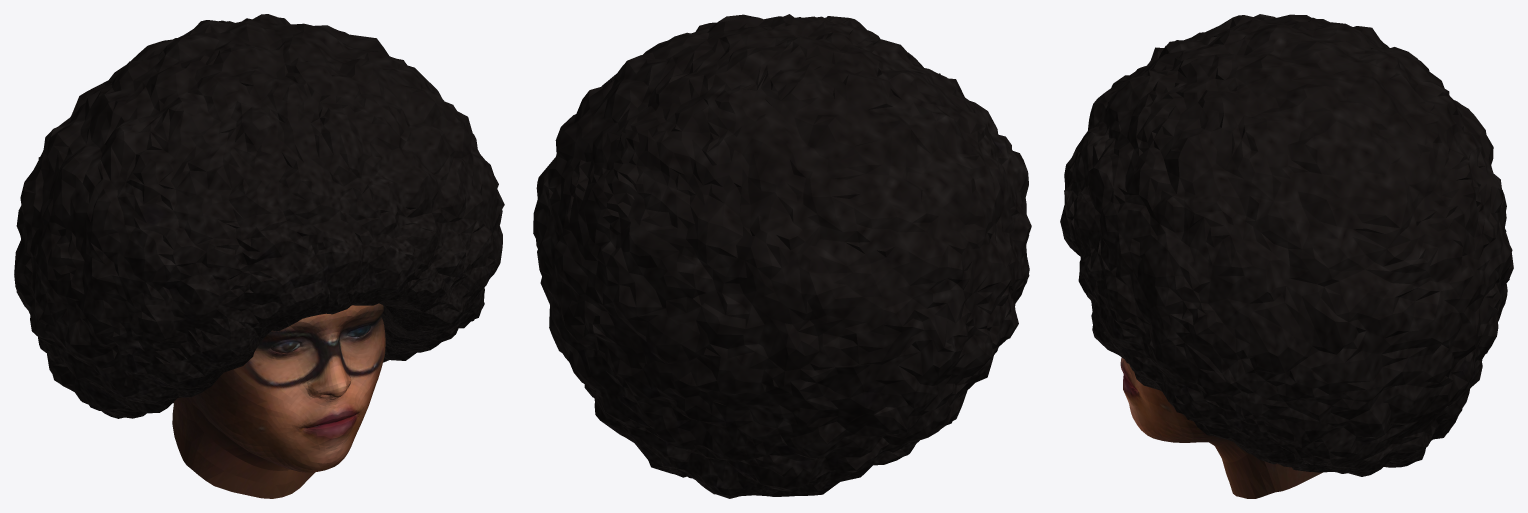
File: erykah.glb
3 renders of one model, left to right at view 1: azimuth 30°, elevation 25°; view 2: azimuth 150°, elevation 25°; view 3: azimuth 270°, elevation 25°, orthographic. The views are drawn at different scales.
Parts seen in each view (by area): view 1: Node; view 2: Node; view 3: Node.
Part boxes in pixels (x1=…): Node: x1=14, y1=14, x2=504, y2=498; Node: x1=533, y1=14, x2=1031, y2=498; Node: x1=1060, y1=14, x2=1513, y2=498.
Bounding box in the file's own units: 0.3505 × 0.3422 × 0.312.
1 material, 1 textured.
